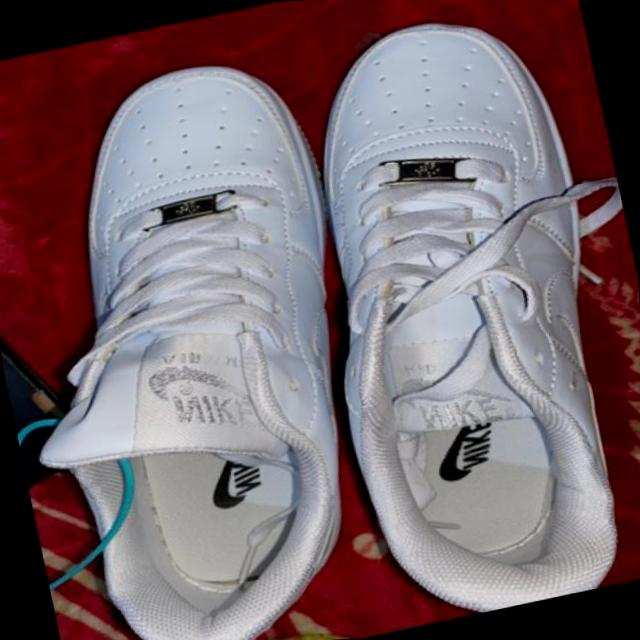nike_fake_airforce: (0, 33, 427, 640), (258, 0, 640, 638)
